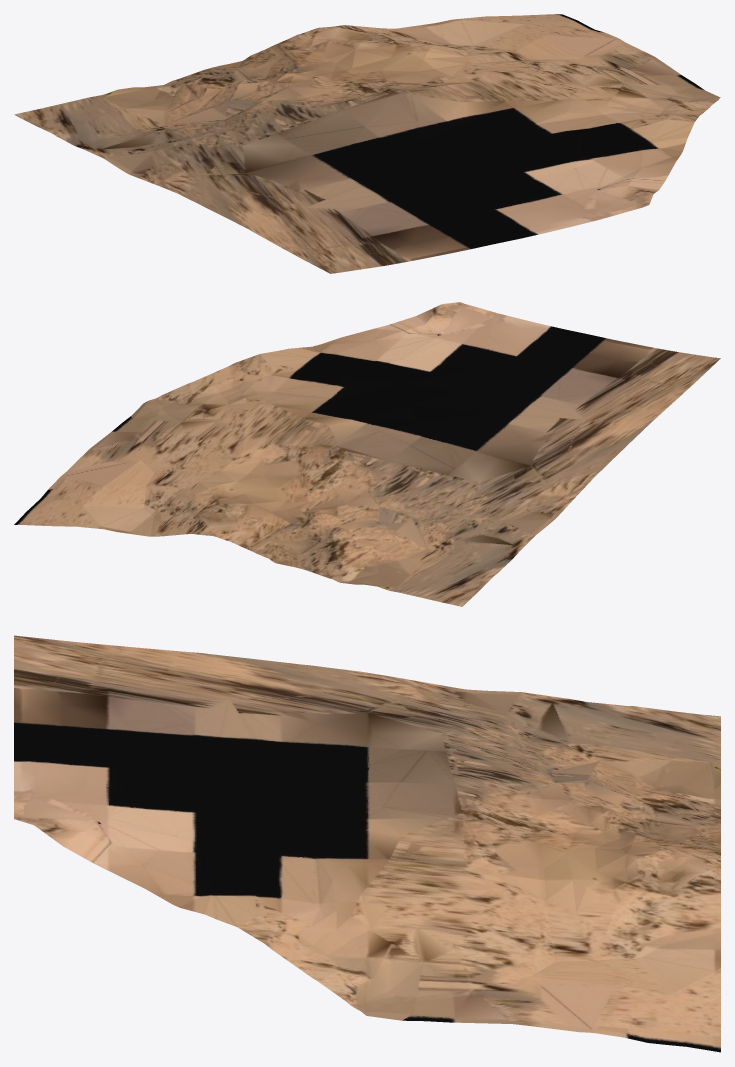
3 renders of one model, top to bottom at view 1: azimuth 30°, elevation 25°; view 2: azimuth 150°, elevation 25°; view 3: azimuth 270°, elevation 25°, orthographic. The views are drawn at different scales.
Size of the model in its own units: 8.36 by 1.54 by 8.36.
Materials: 2 (2 with a texture image).
